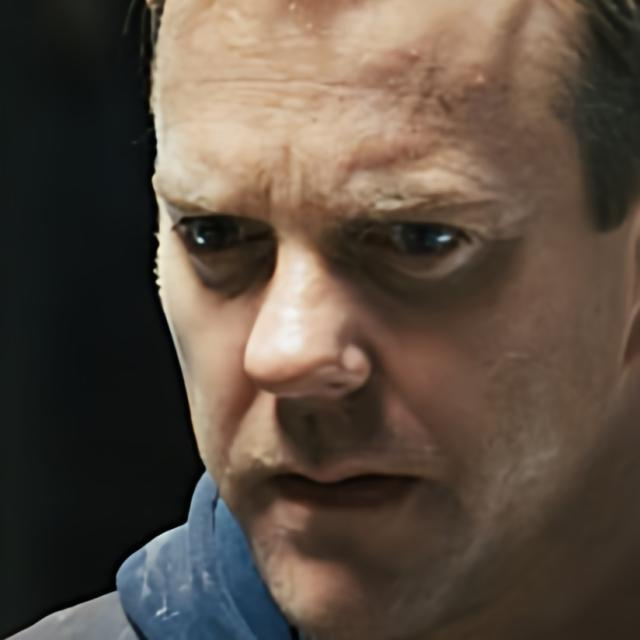anger: (149, 44, 605, 613)
